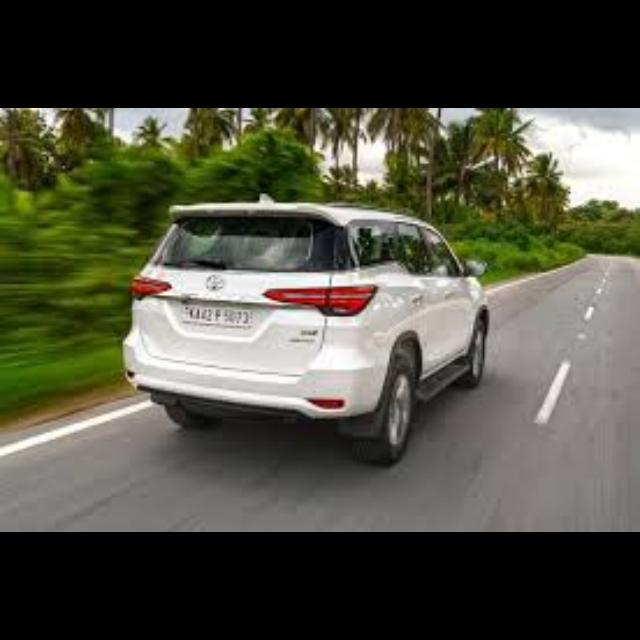vehicles: (113, 191, 489, 465)
